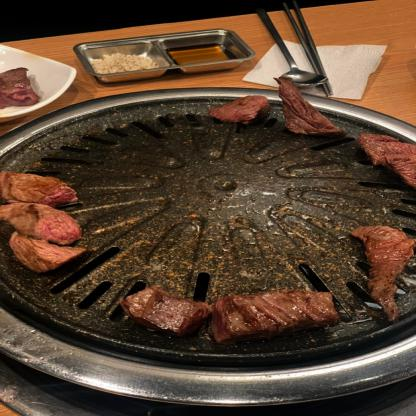Carne: (203, 287, 358, 337), (352, 221, 416, 314), (121, 285, 214, 336), (272, 76, 336, 138), (0, 202, 84, 246), (0, 167, 80, 210), (363, 125, 415, 189), (6, 229, 80, 270)
